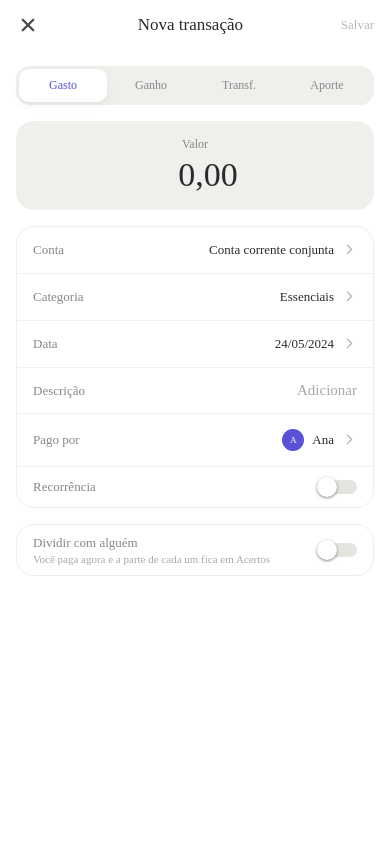
Test: Nova transação › o picker de destino não oferece a conta de origem
Step 1. Click the text "Transf." → click(239, 86), box [222,78,256,93]
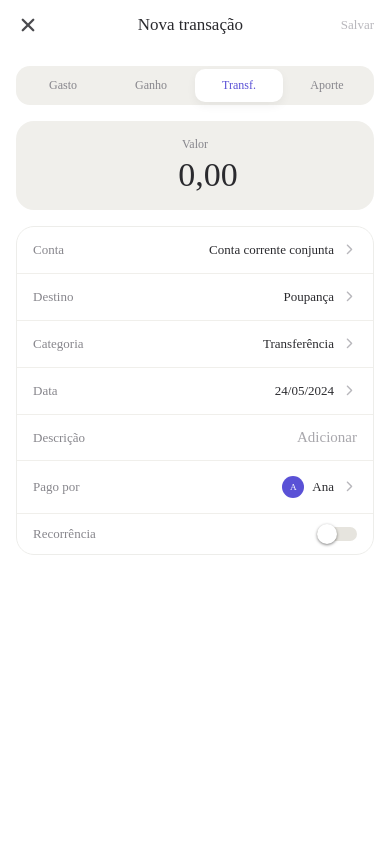
Step 2. Click the text "Destino" → click(53, 297), box [33,289,74,305]
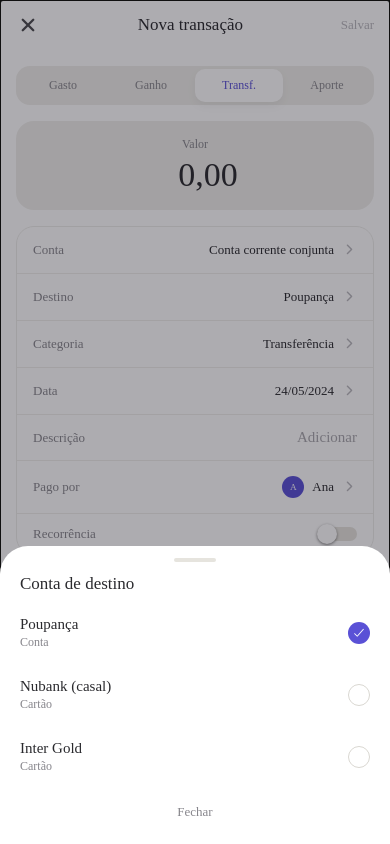
Check: the text "Conta de destino" is shown, box [20,574,134,593]
Check: the text "Conta corrente conjunta" is shown once, box [209,242,334,258]
